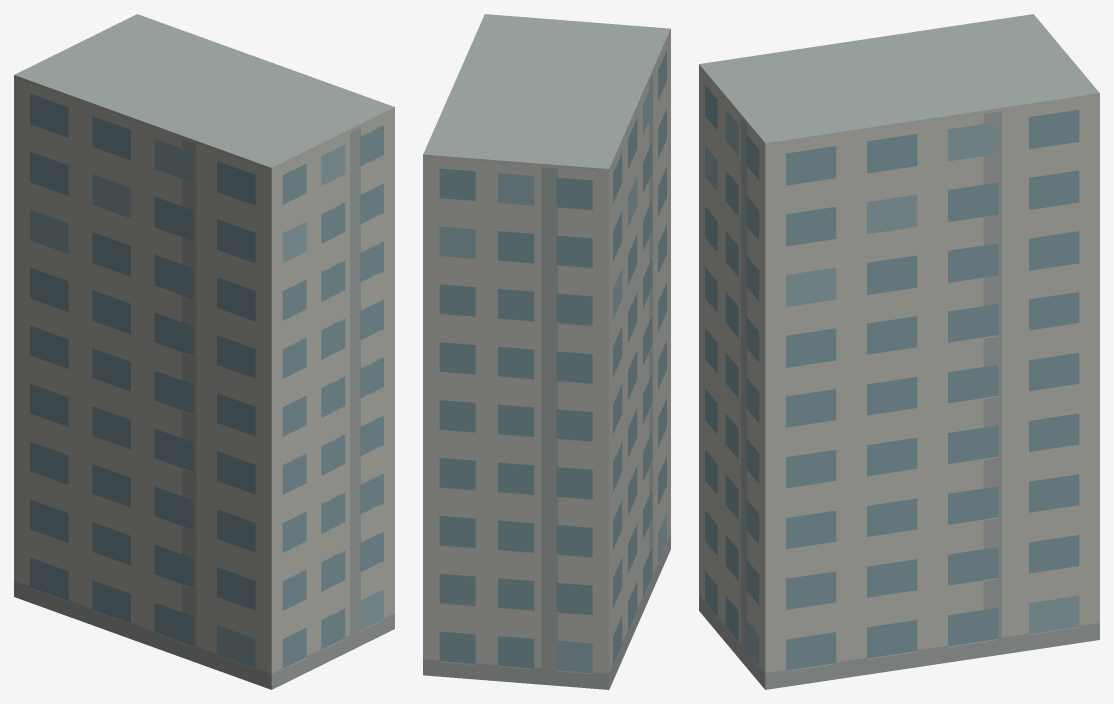
Rendered from residential-c3dfbd00-3f23-42ce-b451-fd273c625aaf.glb.
The picture shows the model from 3 angles, left to right: view 1: azimuth 30°, elevation 25°; view 2: azimuth 150°, elevation 25°; view 3: azimuth 270°, elevation 25°; orthographic projection. The views are drawn at different scales.
Parts seen in each view (by area): view 1: residential-c3dfbd00-3f23-42ce-b451-fd273c625aaf.tmp; view 2: residential-c3dfbd00-3f23-42ce-b451-fd273c625aaf.tmp; view 3: residential-c3dfbd00-3f23-42ce-b451-fd273c625aaf.tmp.
Part boxes in pixels (x1,y1,x2,y2): residential-c3dfbd00-3f23-42ce-b451-fd273c625aaf.tmp: [14, 14, 394, 689]; residential-c3dfbd00-3f23-42ce-b451-fd273c625aaf.tmp: [423, 14, 670, 689]; residential-c3dfbd00-3f23-42ce-b451-fd273c625aaf.tmp: [699, 14, 1099, 689].
Size of the model in its own units: 18.75 by 37 by 24.59.
